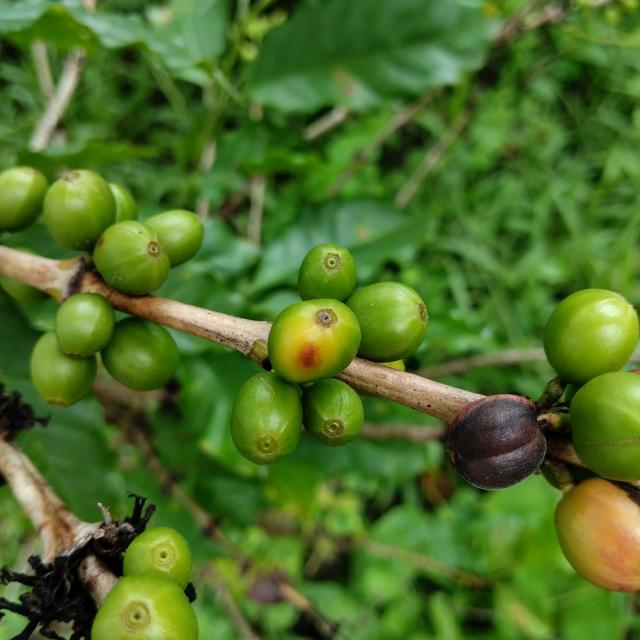green: (90, 528, 198, 640), (544, 289, 640, 386), (571, 372, 640, 482), (91, 574, 198, 640), (345, 282, 429, 363), (230, 372, 302, 465), (42, 169, 115, 251), (100, 317, 179, 391), (93, 220, 170, 295), (30, 331, 96, 408), (301, 379, 364, 447), (54, 292, 114, 358), (142, 209, 204, 267), (298, 244, 356, 302)
red: (449, 395, 547, 491)
yellow: (555, 479, 640, 593), (268, 299, 361, 384)
